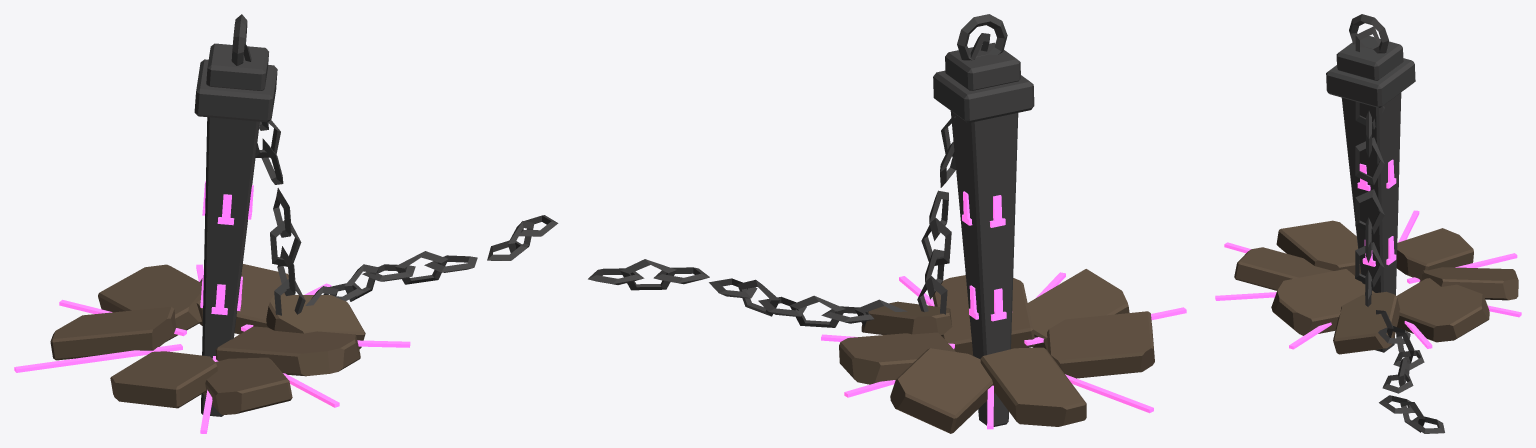
File: zr_chain_spike.glb
3 renders of one model, left to right at view 1: azimuth 30°, elevation 25°; view 2: azimuth 150°, elevation 25°; view 3: azimuth 270°, elevation 25°, orthographic. The views are drawn at different scales.
Visible parts, largest first — view 1: zr_chain_spike; view 2: zr_chain_spike; view 3: zr_chain_spike.
Part boxes in pixels (x1=…): zr_chain_spike: x1=14, y1=14, x2=558, y2=433; zr_chain_spike: x1=588, y1=14, x2=1186, y2=433; zr_chain_spike: x1=1215, y1=14, x2=1521, y2=433.
Size of what is drawn, in the model's own units: 4.98 by 3.44 by 2.8.
